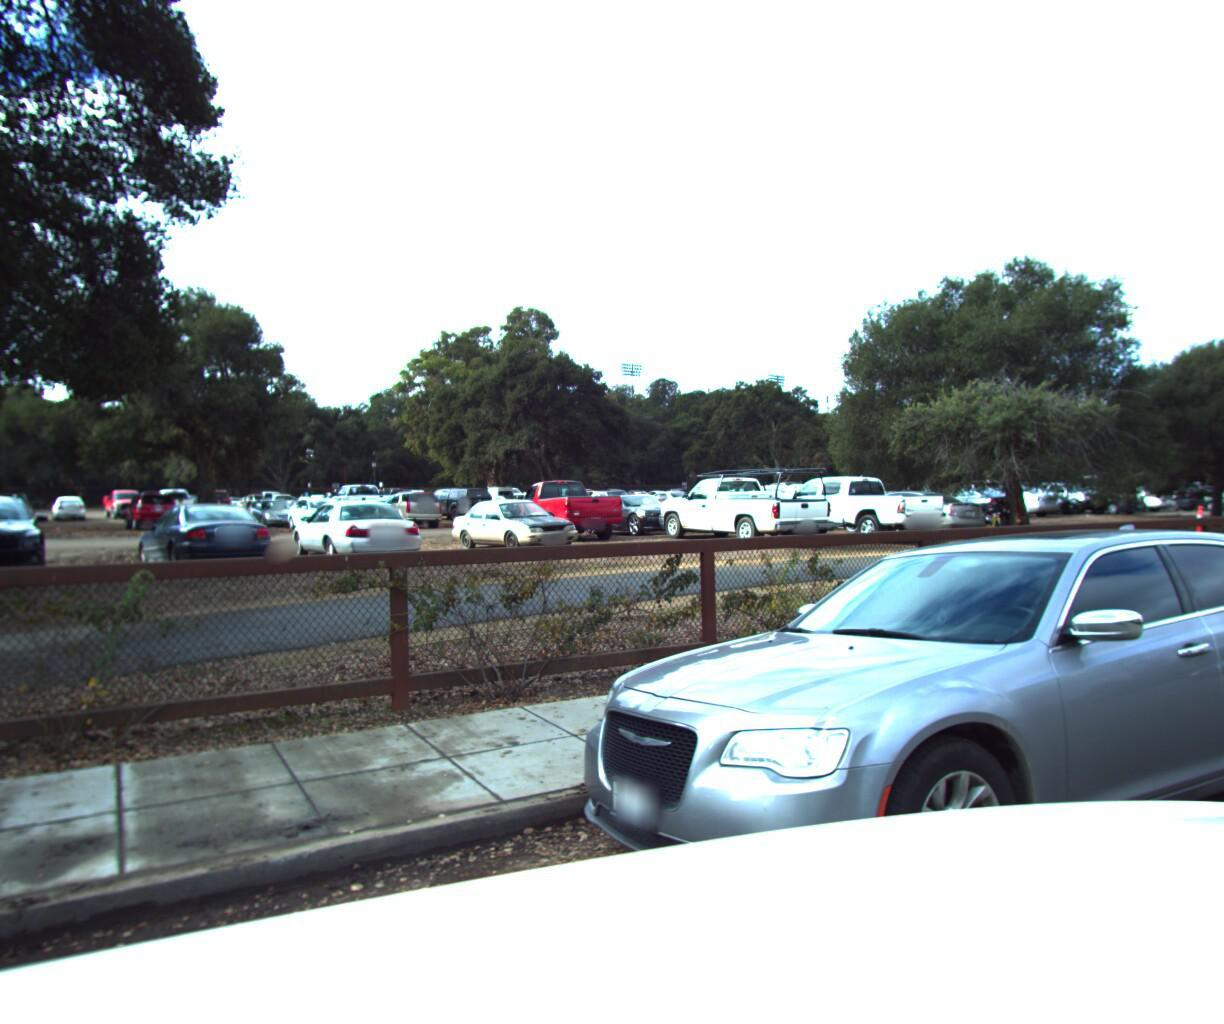car: (523, 516, 1224, 1024), (1194, 464, 1224, 728)
